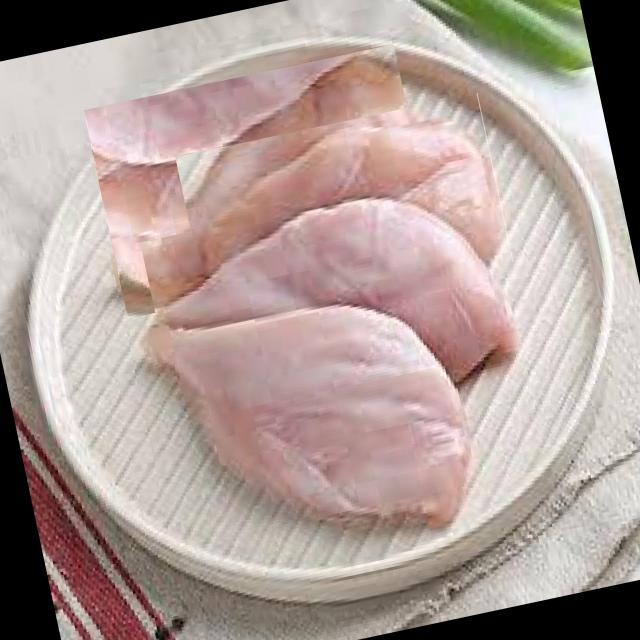chicken: (136, 267, 486, 579), (140, 170, 518, 442), (82, 43, 438, 318), (175, 93, 513, 324)
